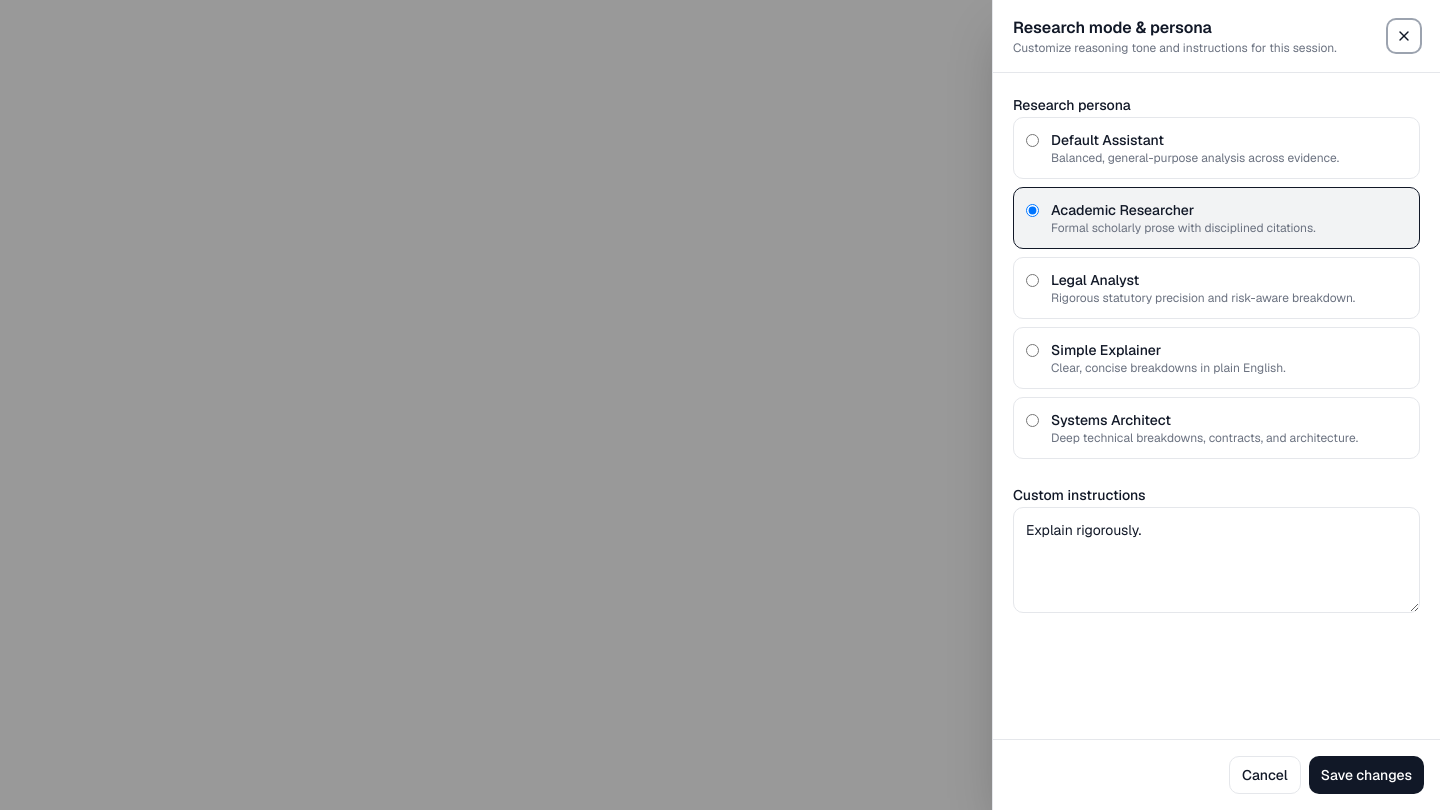
Test: ChatSettingsDrawer › shows error alert when updatePersona fails
Click the button "Save changes".
click(1366, 775)  # box top-left (1309, 756), bottom-right (1424, 794)
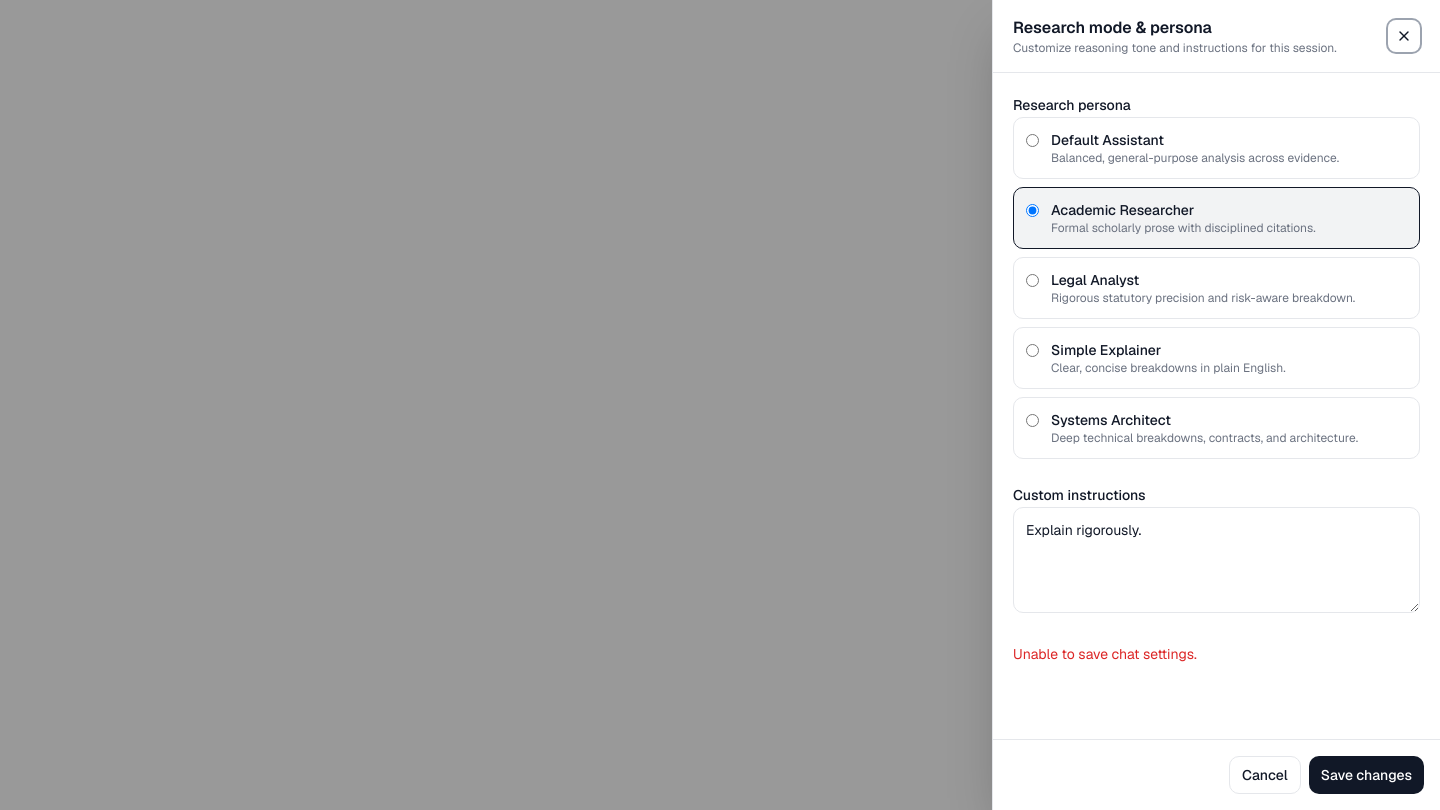
Now the text "Unable to save chat settings." is shown, box top-left (1013, 645), bottom-right (1197, 663)
